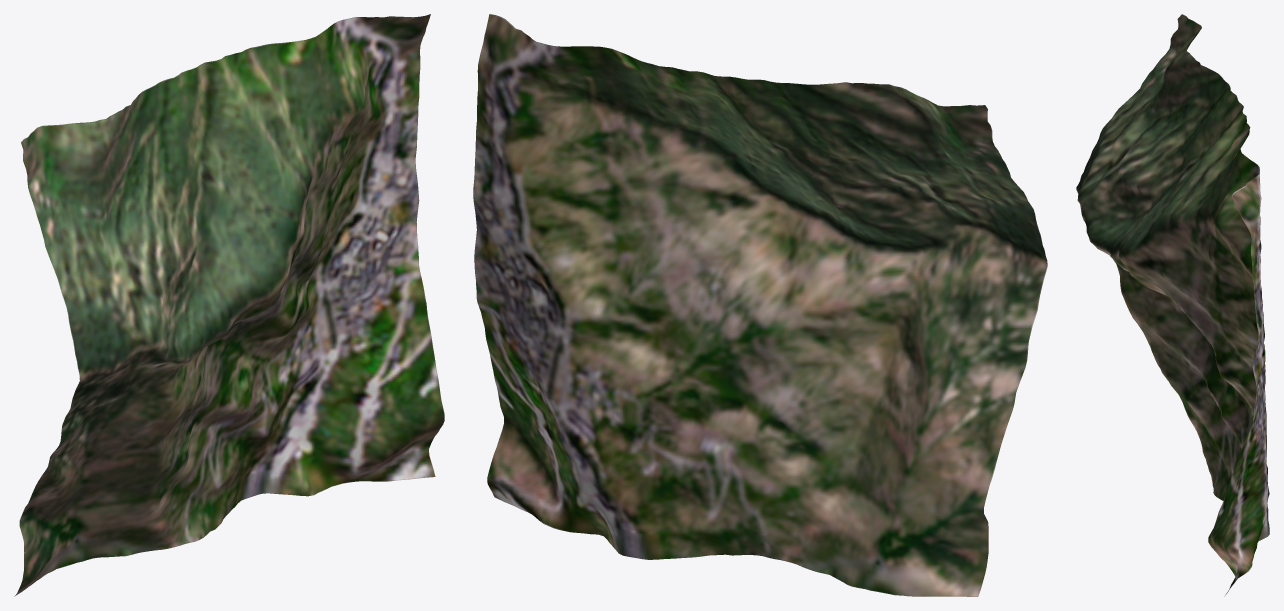
Rendered from ground_far_01_00.obj.
3 views of the same model, side by side, from view 1: azimuth 30°, elevation 25°; view 2: azimuth 150°, elevation 25°; view 3: azimuth 270°, elevation 25° (orthographic). The views are drawn at different scales.
Parts seen in each view (by area): view 1: ground_far_01_00; view 2: ground_far_01_00; view 3: ground_far_01_00.
Part boxes in pixels (bbox=[...]): ground_far_01_00: bbox=[14, 14, 444, 596]; ground_far_01_00: bbox=[473, 14, 1047, 596]; ground_far_01_00: bbox=[1076, 14, 1269, 596].
Bounding box in the file's own units: 2000 × 2000 × 882.
1 material, 1 textured.
